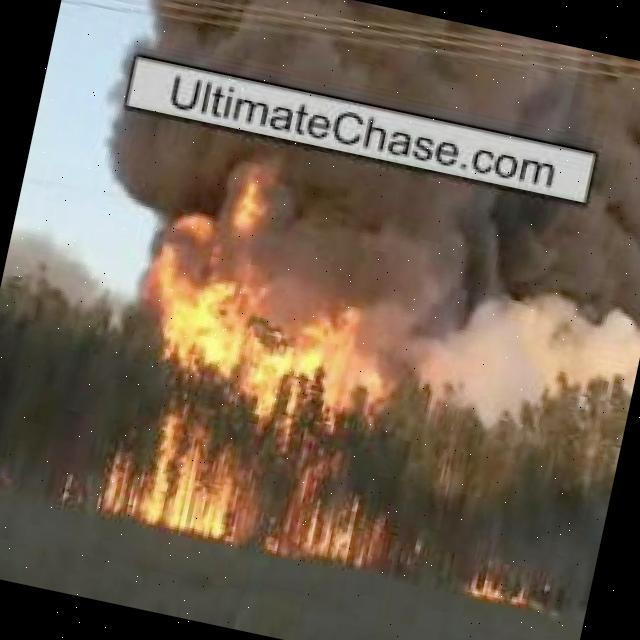fire: (89, 192, 462, 575), (462, 556, 542, 606)
